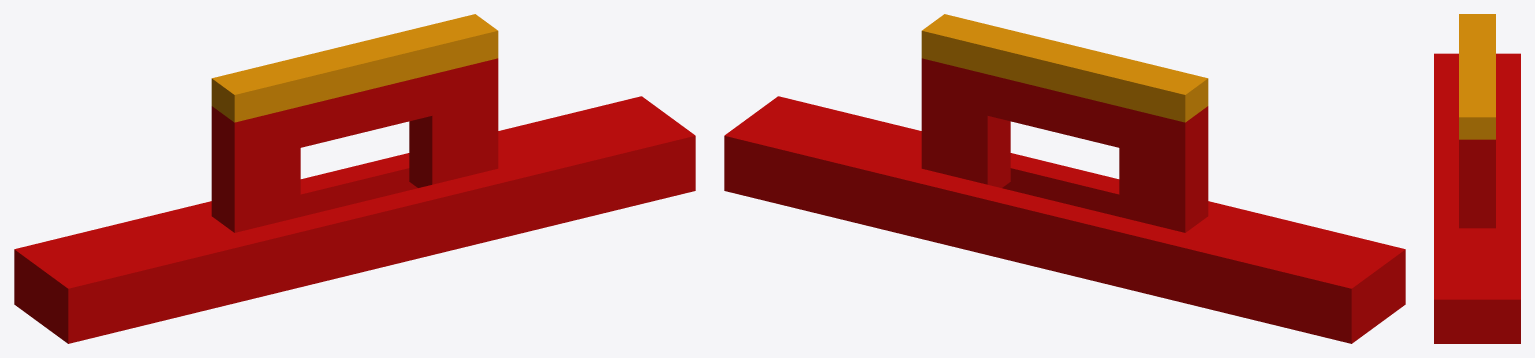
File: circuits-ConductorOrange.glb
3 renders of one model, left to right at view 1: azimuth 30°, elevation 25°; view 2: azimuth 150°, elevation 25°; view 3: azimuth 270°, elevation 25°, orthographic. The views are drawn at different scales.
Parts seen in each view (by area): view 1: models-Conductor.with.LED; view 2: models-Conductor.with.LED; view 3: models-Conductor.with.LED.
Part boxes in pixels (<box>): models-Conductor.with.LED: <box>14,14,695,343</box>; models-Conductor.with.LED: <box>724,14,1405,343</box>; models-Conductor.with.LED: <box>1434,14,1520,343</box>.
Size of the model in its own units: 0.0952 by 0.028 by 0.0142.
